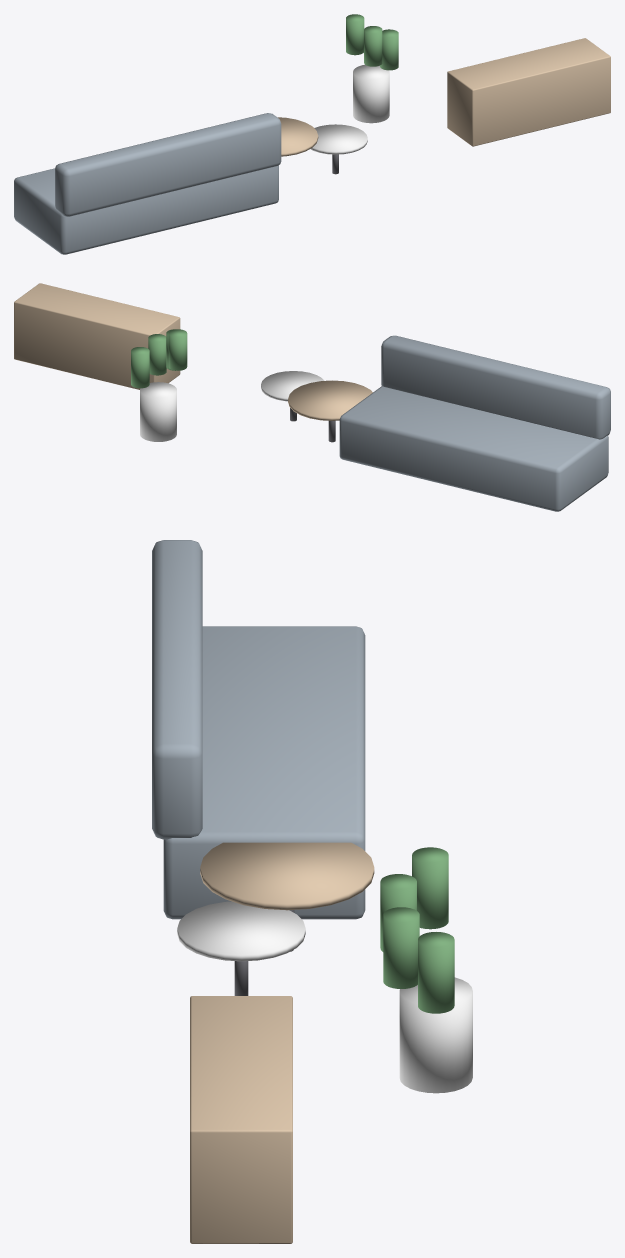
File: room_apartment_living.glb
3 views of the same model, one above another, from view 1: azimuth 30°, elevation 25°; view 2: azimuth 150°, elevation 25°; view 3: azimuth 270°, elevation 25° (orthographic). The views are drawn at different scales.
Visible parts, largest first — view 1: Credenza, Urban_Sofa_Back, Urban_Sofa_Base, Monstera_Pot, Nest_Table_2, Nest_Table_1, Leaf_2, Leaf_3, Leaf_1; view 2: Urban_Sofa_Base, Urban_Sofa_Back, Credenza, Nest_Table_1, Monstera_Pot, Nest_Table_2, Leaf_3, Leaf_0, Leaf_1; view 3: Urban_Sofa_Base, Credenza, Urban_Sofa_Back, Nest_Table_1, Monstera_Pot, Nest_Table_2, Leaf_0, Leaf_1, Leaf_3, Leaf_2.
Part boxes in pixels (<box>): Credenza: <box>447,38,610,146</box>; Urban_Sofa_Back: <box>55,113,281,216</box>; Urban_Sofa_Base: <box>14,165,278,254</box>; Monstera_Pot: <box>353,64,389,123</box>; Nest_Table_2: <box>310,124,367,154</box>; Nest_Table_1: <box>278,117,318,156</box>; Leaf_2: <box>364,26,382,66</box>; Leaf_3: <box>346,14,364,55</box>; Leaf_1: <box>380,29,398,70</box>; Urban_Sofa_Base: <box>339,386,608,511</box>; Urban_Sofa_Back: <box>381,335,610,439</box>; Credenza: <box>14,283,180,389</box>; Nest_Table_1: <box>288,380,372,420</box>; Monstera_Pot: <box>140,382,176,441</box>; Nest_Table_2: <box>261,371,324,401</box>; Leaf_3: <box>168,329,187,370</box>; Leaf_0: <box>131,347,149,388</box>; Leaf_1: <box>148,334,166,375</box>; Urban_Sofa_Base: <box>163,626,365,919</box>; Credenza: <box>190,996,292,1243</box>; Urban_Sofa_Back: <box>152,540,202,839</box>; Nest_Table_1: <box>200,842,374,910</box>; Monstera_Pot: <box>399,977,472,1093</box>; Nest_Table_2: <box>177,901,305,961</box>; Leaf_0: <box>418,932,454,1013</box>; Leaf_1: <box>383,907,419,988</box>; Leaf_3: <box>412,847,448,929</box>; Leaf_2: <box>380,874,416,951</box>.
Size of the model in its own units: 5.6 by 1 by 1.4.
